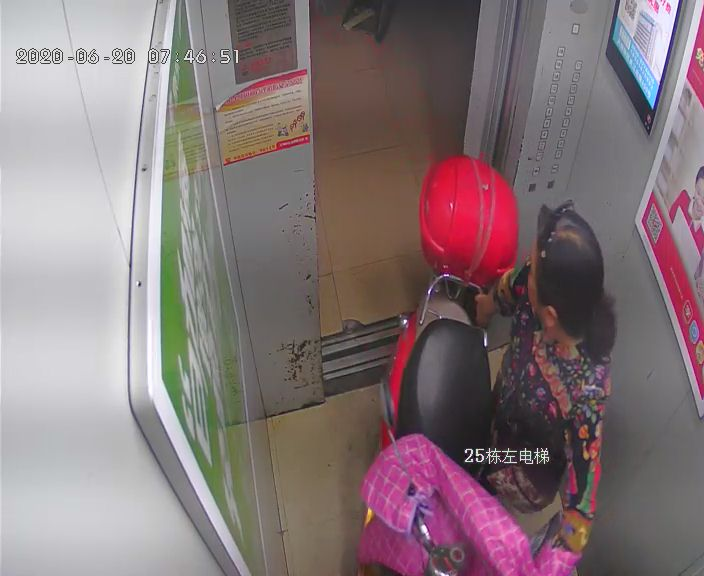Electric-bicycle: (361, 156, 526, 576)
